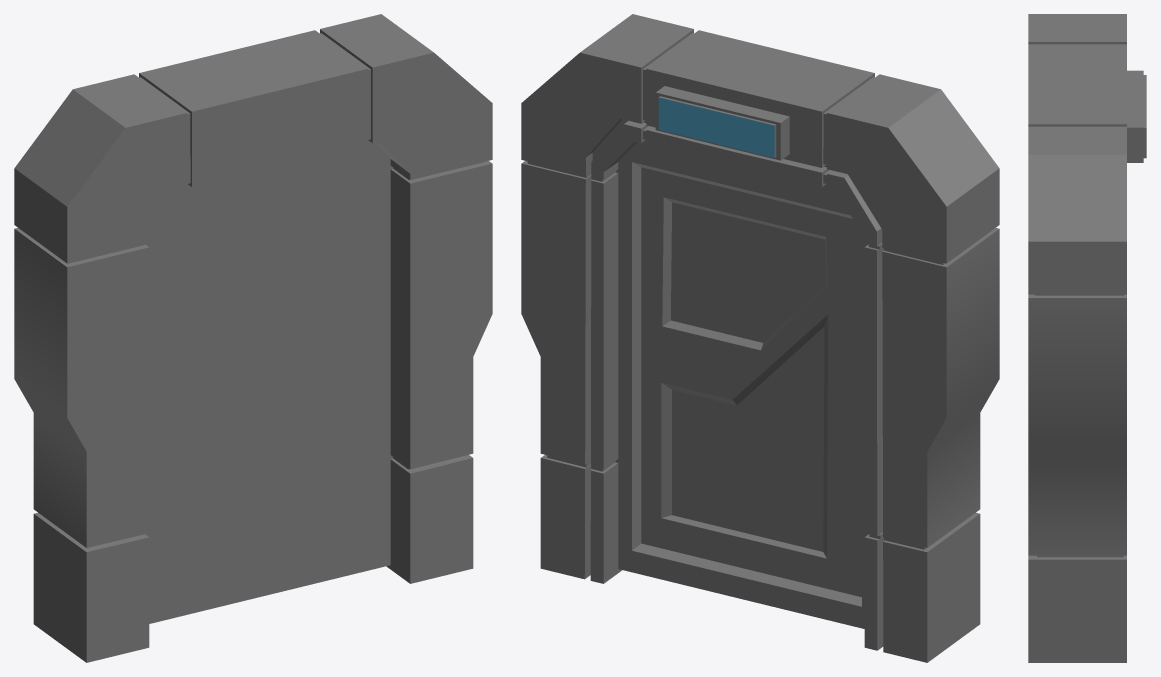
The model's file is OBJ_laboratory Door.fbx.
The picture shows the model from 3 angles, left to right: view 1: azimuth 30°, elevation 25°; view 2: azimuth 150°, elevation 25°; view 3: azimuth 270°, elevation 25°; orthographic projection. The views are drawn at different scales.
Parts seen in each view (by area): view 1: Box033, Box035; view 2: Box033, Box035, Box034; view 3: Box033, Box034.
Part boxes in pixels (box(x1,y1,x2,y2)): Box033: box(14, 14, 492, 662); Box035: box(145, 140, 393, 623); Box033: box(521, 14, 999, 662); Box035: box(615, 140, 868, 628); Box034: box(655, 86, 789, 160); Box033: box(1028, 14, 1126, 662); Box034: box(1127, 70, 1146, 162).
Size of the model in its own units: 82.07 by 96.91 by 21.15.
